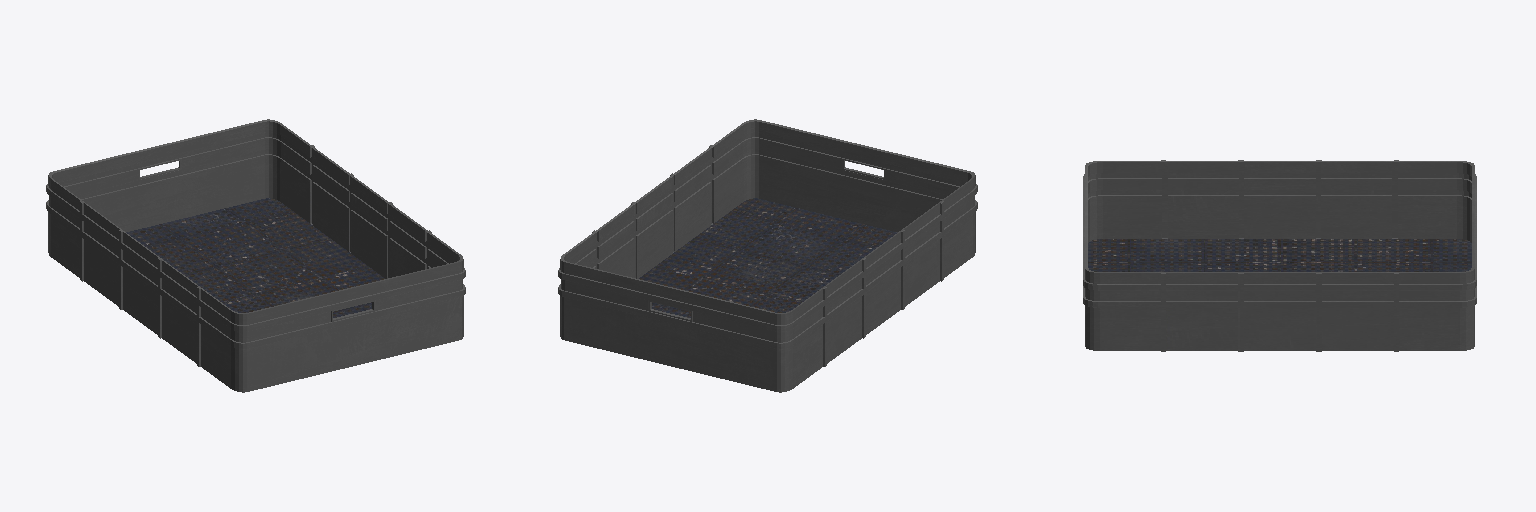
The picture shows the model from 3 angles: view 1: azimuth 30°, elevation 25°; view 2: azimuth 150°, elevation 25°; view 3: azimuth 270°, elevation 25°; orthographic projection.
Bounding box in the file's own units: 0.5949 × 0.1909 × 0.8695.
1 materials, 1 textured.